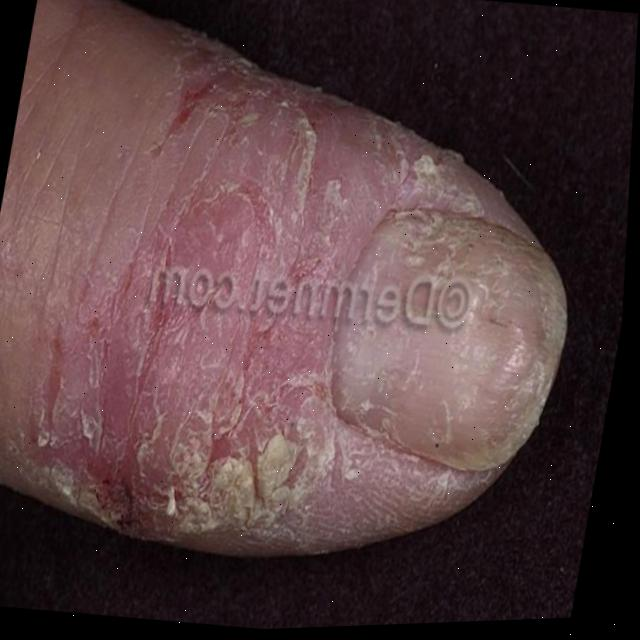Eczema: (12, 36, 591, 581)
